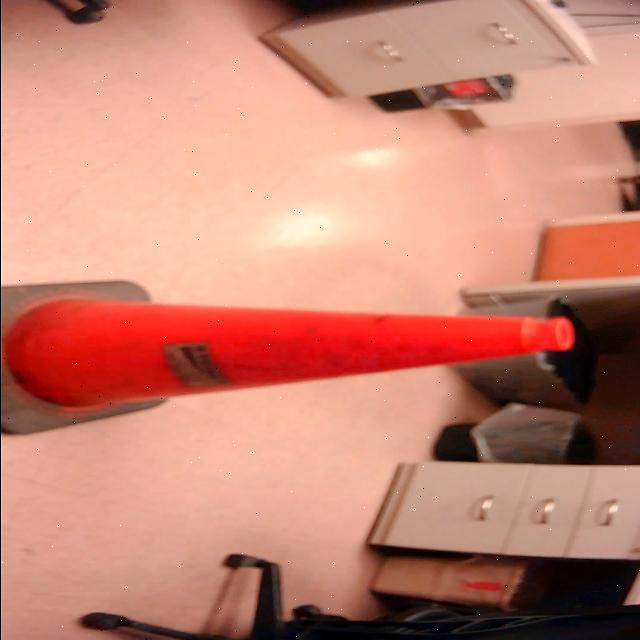traffic cone: (1, 274, 592, 447)
